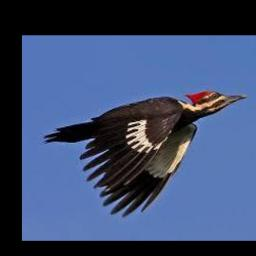Woodpecker: (43, 90, 246, 217)
